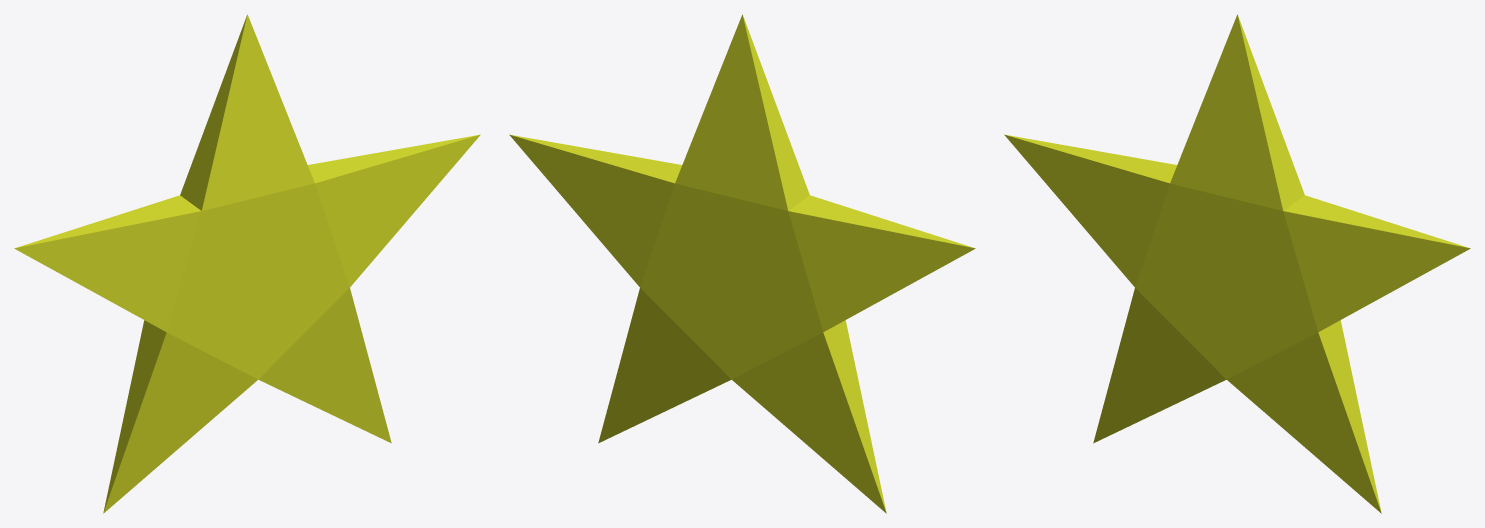
Rendered from star.glb.
3 views of the same model, side by side, from view 1: azimuth 30°, elevation 25°; view 2: azimuth 150°, elevation 25°; view 3: azimuth 330°, elevation 25° (orthographic).
Parts seen in each view (by area): view 1: Cylinder; view 2: Cylinder; view 3: Cylinder.
Part boxes in pixels (bbox=[...]): Cylinder: bbox=[14, 14, 480, 513]; Cylinder: bbox=[509, 14, 975, 513]; Cylinder: bbox=[1004, 14, 1470, 513].
Bounding box in the file's own units: 1.85 × 1.76 × 0.1491.
